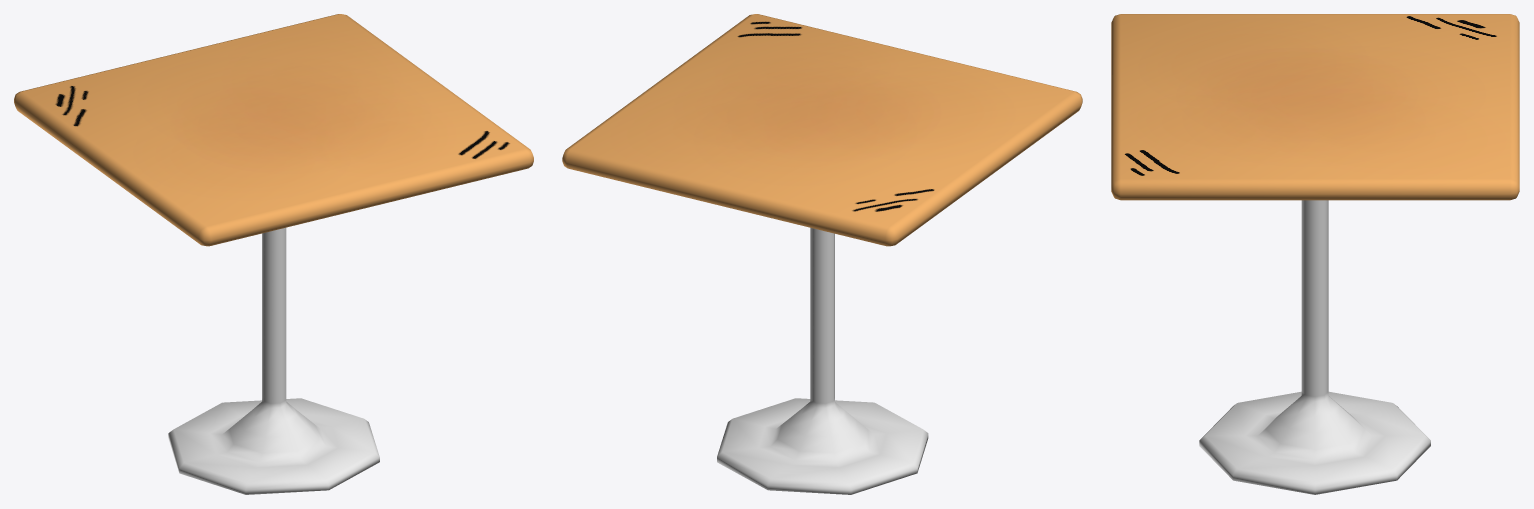
The model's file is F_MasaAyakli.fbx.
3 views of the same model, side by side, from view 1: azimuth 30°, elevation 25°; view 2: azimuth 150°, elevation 25°; view 3: azimuth 270°, elevation 25° (orthographic). The views are drawn at different scales.
Parts seen in each view (by area): view 1: YemekMasa.001; view 2: YemekMasa.001; view 3: YemekMasa.001.
Boxes of the visible parts, x1,y1,x2,y2 form: YemekMasa.001: (14, 14, 533, 494); YemekMasa.001: (562, 14, 1082, 494); YemekMasa.001: (1111, 14, 1519, 494).
Size of the model in its own units: 67 by 63.23 by 67.
